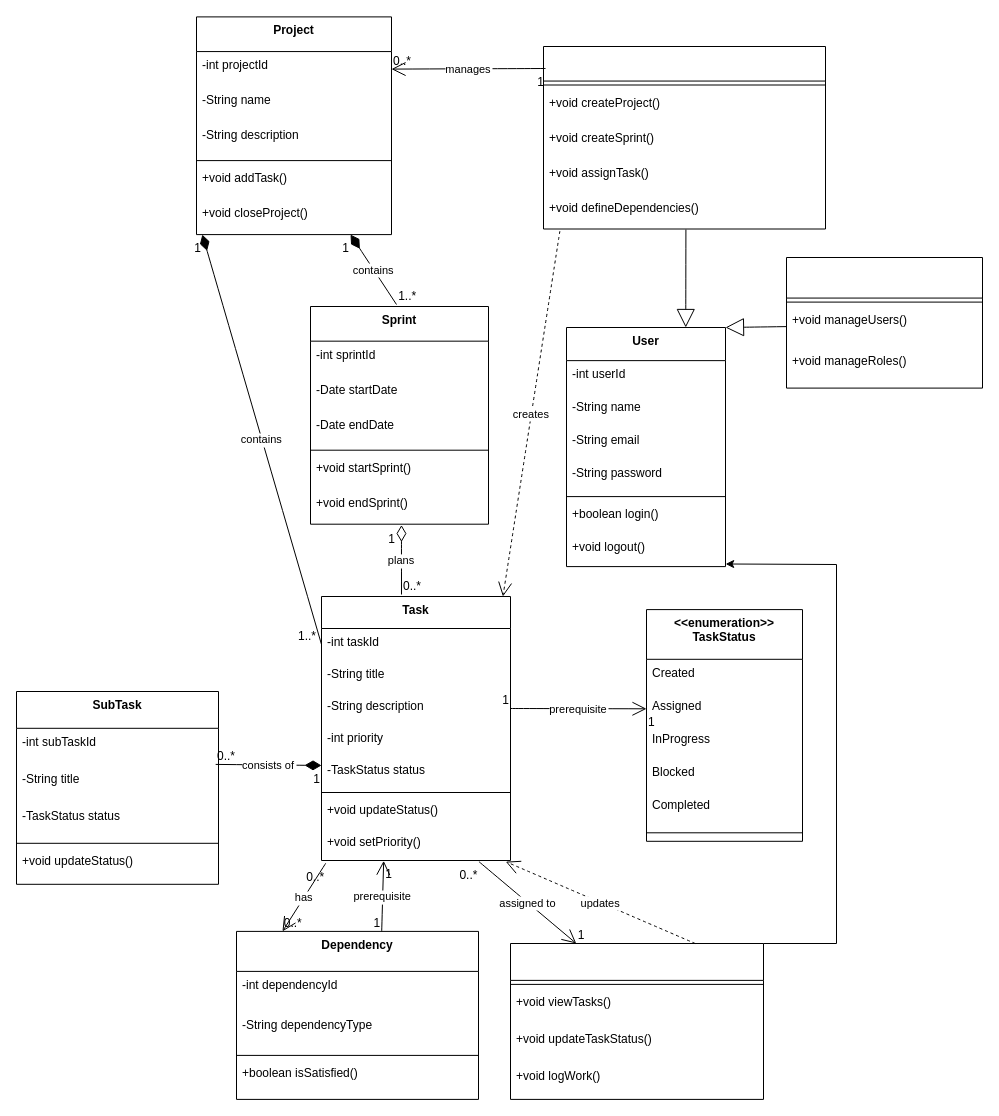
Image size: 999x1116. Some labels were removed from this diagram. The shapes that lost their labels are listed below. From the top down, each one's box as (x1, y1, x2, y2) in pixels, then its label:
(542, 46, 826, 229): ProjectManager
(786, 256, 982, 388): Admin
(510, 942, 764, 1099): TeamMember
